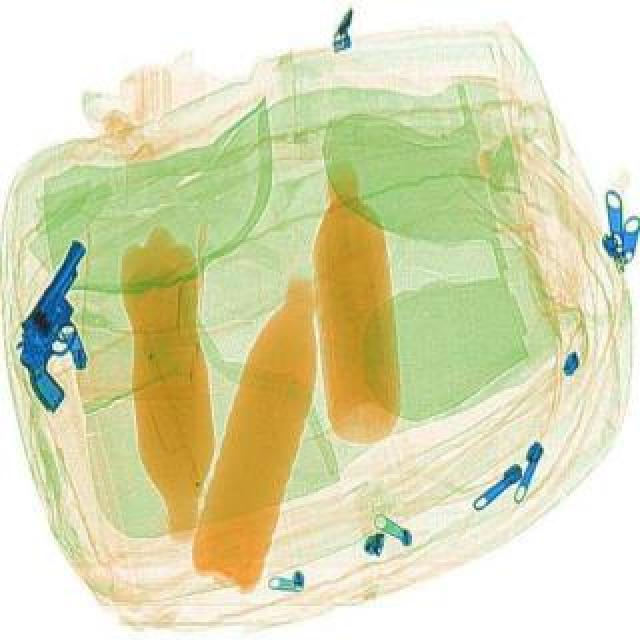gun: (0, 232, 116, 416)
